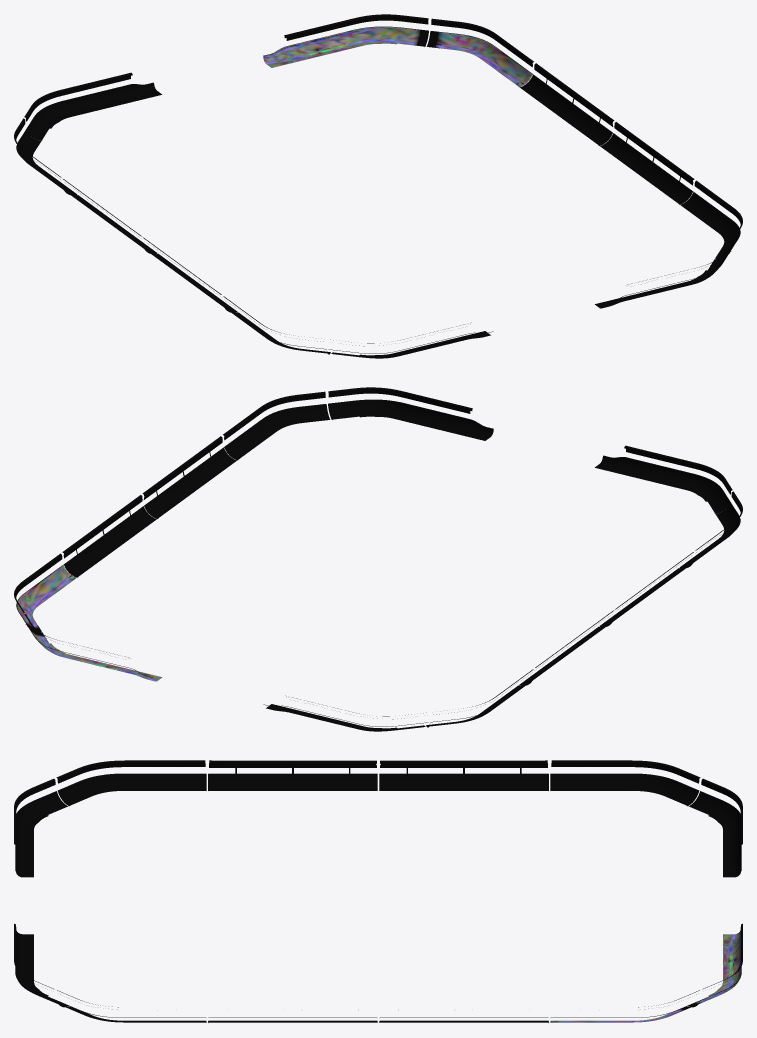
Rendered from CS_FieldWalls_01.gltf.
The picture shows the model from 3 angles, top to bottom: view 1: azimuth 30°, elevation 25°; view 2: azimuth 150°, elevation 25°; view 3: azimuth 270°, elevation 25°; orthographic projection. The views are drawn at different scales.
Parts seen in each view (by area): view 1: CS_FieldWalls_01; view 2: CS_FieldWalls_01; view 3: CS_FieldWalls_01.
Part boxes in pixels (left/top/right/bottom): CS_FieldWalls_01: left=14, top=14, right=742, bottom=358; CS_FieldWalls_01: left=14, top=387, right=742, bottom=731; CS_FieldWalls_01: left=14, top=760, right=742, bottom=1022.
Bounding box in the file's own units: 82.47 × 3.53 × 103.
